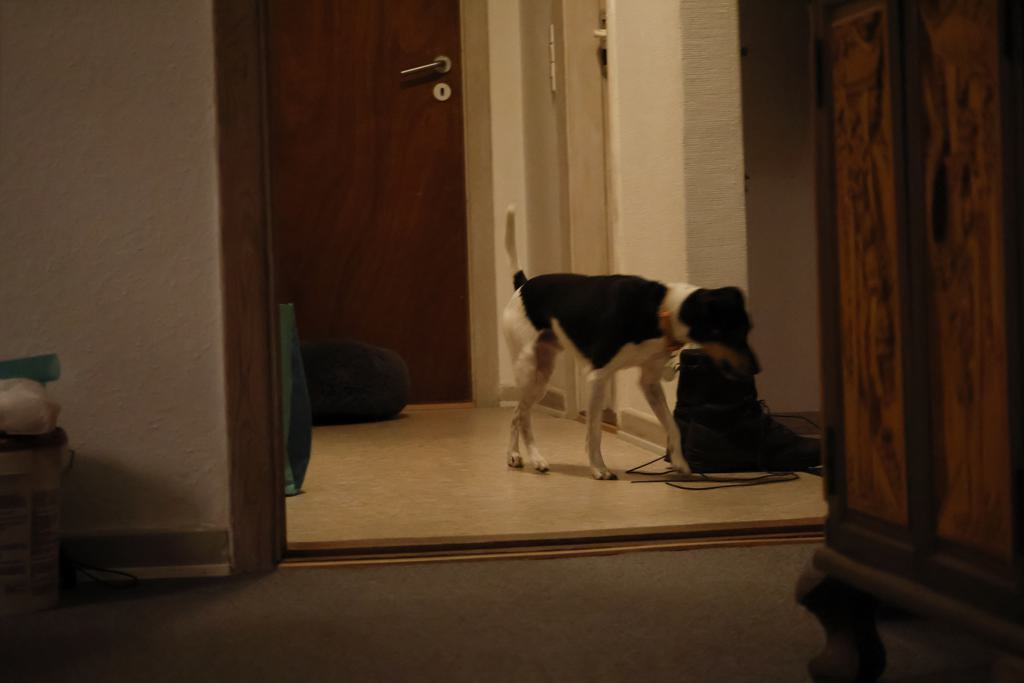Dog: (492, 191, 771, 487)
